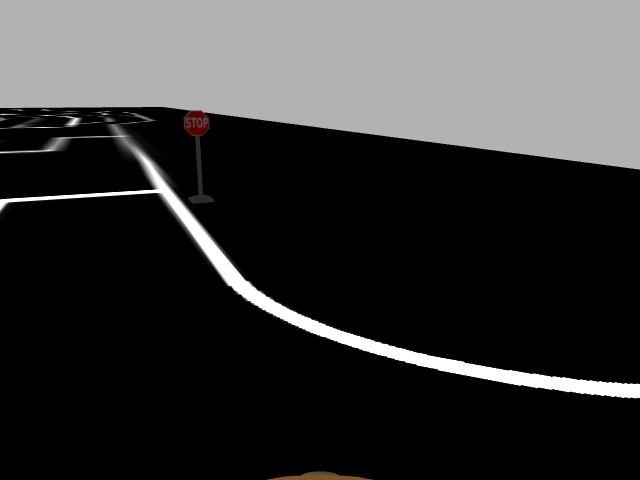stop: (182, 109, 211, 137)
